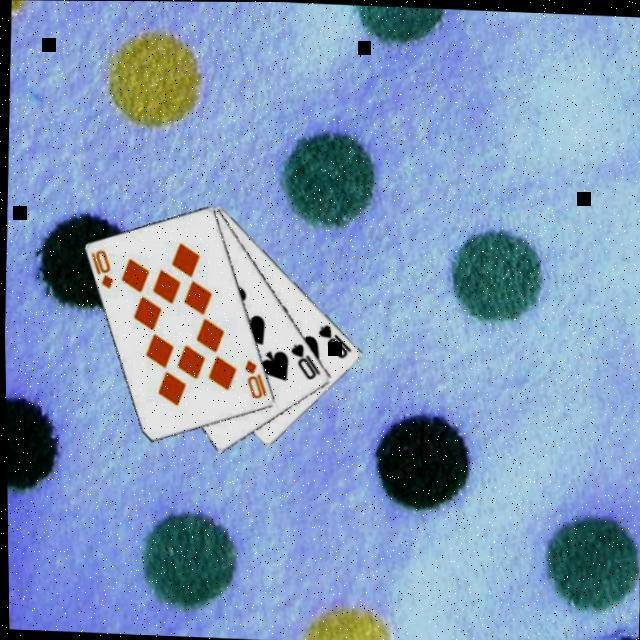10D: (240, 354, 272, 400), (87, 243, 118, 290)
10S: (286, 338, 324, 381), (316, 320, 355, 358)
